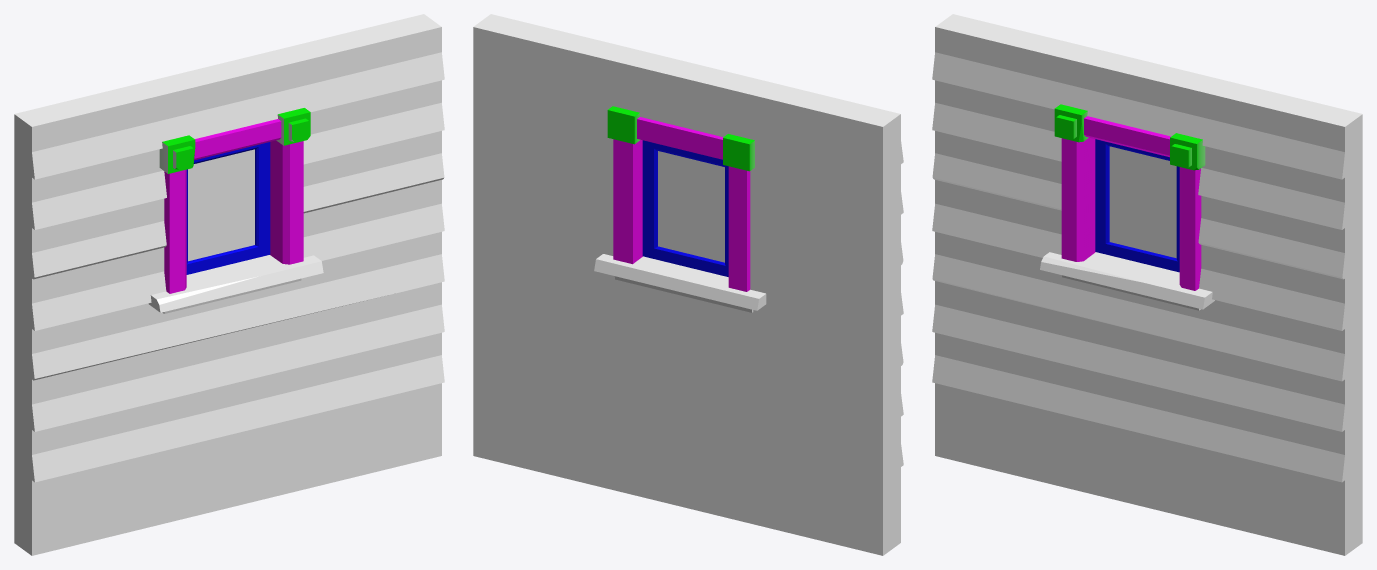
File: EAThe80_Window_MegaSmall_4x4.fbx
3 views of the same model, side by side, from view 1: azimuth 30°, elevation 25°; view 2: azimuth 150°, elevation 25°; view 3: azimuth 330°, elevation 25° (orthographic).
Parts seen in each view (by area): view 1: EAThe80_Window_MegaSmall_4x4_01, EAThe80_Window_MegaSmall_int_01; view 2: EAThe80_Window_MegaSmall_4x4_01, EAThe80_Window_MegaSmall_int_01; view 3: EAThe80_Window_MegaSmall_4x4_01, EAThe80_Window_MegaSmall_int_01.
Part boxes in pixels (x1,y1,x2,y2): EAThe80_Window_MegaSmall_4x4_01: (14, 14, 444, 555); EAThe80_Window_MegaSmall_int_01: (186, 142, 270, 274); EAThe80_Window_MegaSmall_4x4_01: (473, 14, 903, 555); EAThe80_Window_MegaSmall_int_01: (642, 140, 728, 276); EAThe80_Window_MegaSmall_4x4_01: (932, 14, 1362, 555); EAThe80_Window_MegaSmall_int_01: (1095, 139, 1179, 272).
Size of the model in its own units: 4 by 4 by 0.657.
